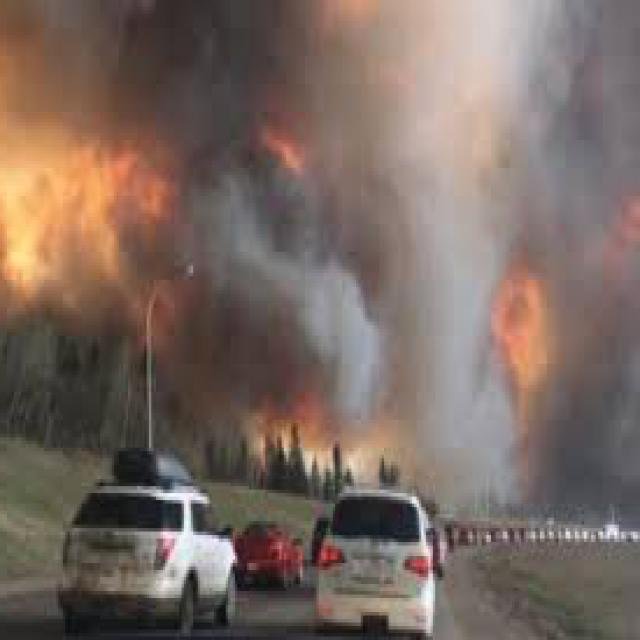Fire: (0, 55, 165, 373)
Smoke: (0, 4, 633, 446)
